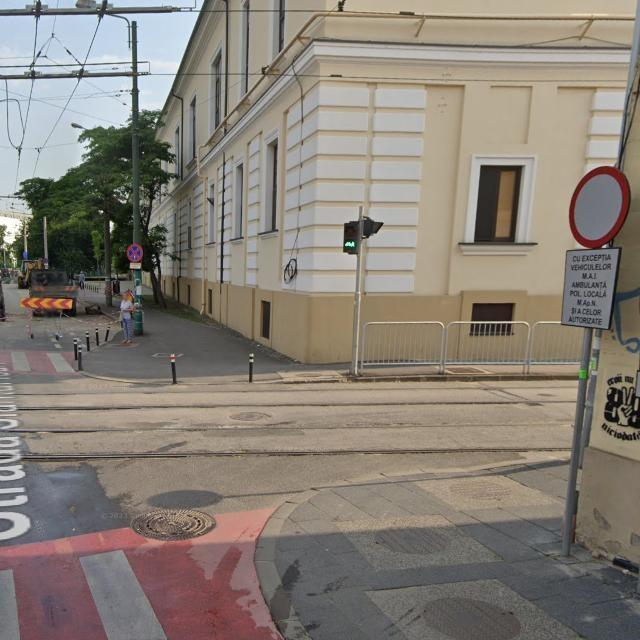forb_waiting: (127, 244, 143, 263)
